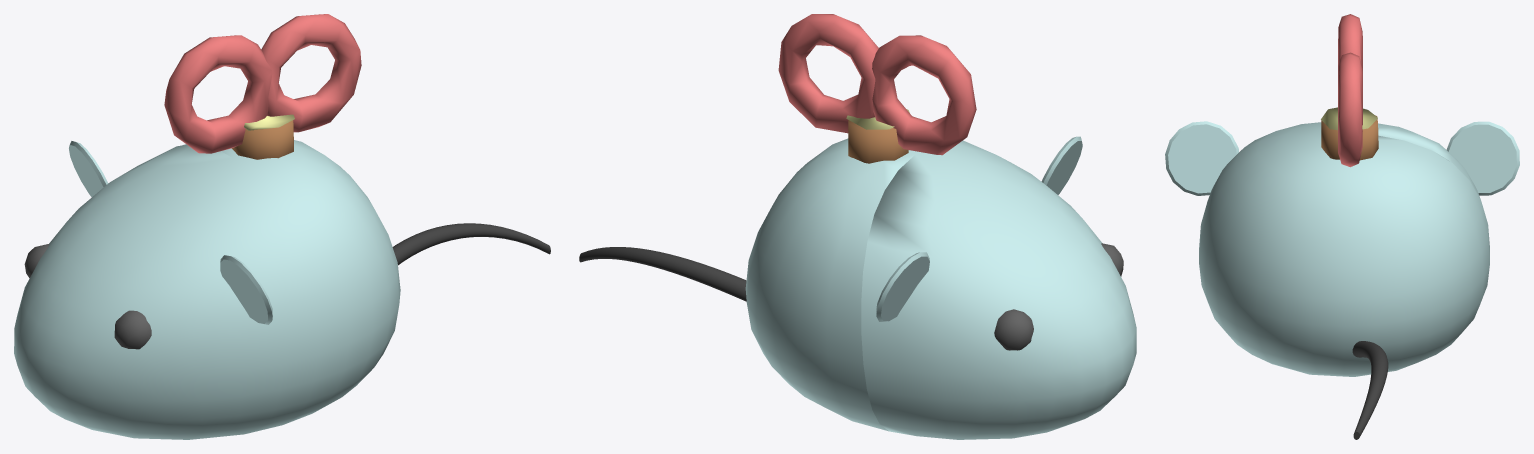
The model's file is toy_mouse.fbx.
3 renders of one model, left to right at view 1: azimuth 30°, elevation 25°; view 2: azimuth 150°, elevation 25°; view 3: azimuth 270°, elevation 25°, orthographic. The views are drawn at different scales.
Parts seen in each view (by area): view 1: Sphere001, Wind, Cylinder001, ChamferCyl002, ChamferCyl002.001, Eye; view 2: Sphere001, Wind, Cylinder001, ChamferCyl002.001, Eye2, ChamferCyl002; view 3: Sphere001, Wind, ChamferCyl002, ChamferCyl002.001, Cylinder001.
Boxes of the visible parts, x1,y1,x2,y2 form: Sphere001: [14, 140, 400, 439]; Wind: [164, 14, 361, 159]; Cylinder001: [392, 223, 550, 265]; ChamferCyl002: [220, 255, 272, 324]; ChamferCyl002.001: [69, 141, 108, 196]; Eye: [114, 310, 151, 349]; Sphere001: [745, 138, 1136, 439]; Wind: [778, 14, 976, 163]; Cylinder001: [579, 247, 746, 301]; ChamferCyl002.001: [876, 252, 929, 321]; Eye2: [994, 309, 1033, 350]; ChamferCyl002: [1041, 136, 1082, 194]; Sphere001: [1199, 122, 1489, 376]; Wind: [1321, 14, 1378, 167]; ChamferCyl002: [1165, 121, 1238, 195]; ChamferCyl002.001: [1446, 121, 1519, 195]; Cylinder001: [1352, 341, 1388, 439].
Size of the model in its own units: 74.45 by 49.02 by 47.71.
